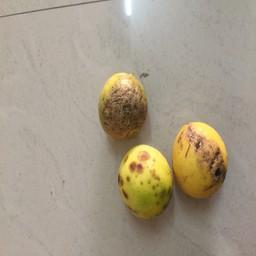Bad_lime: (175, 121, 230, 201), (118, 145, 173, 225), (101, 72, 148, 139)
